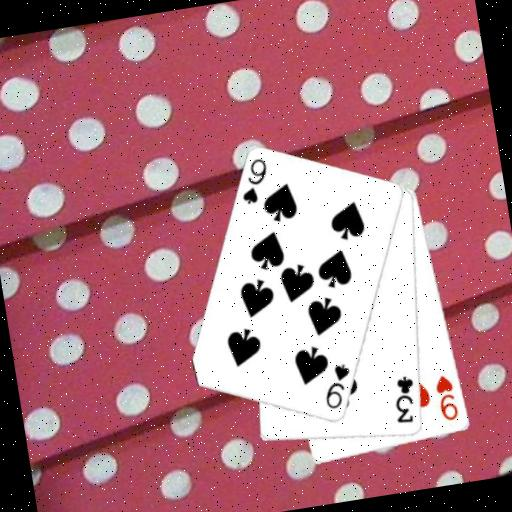3C: (386, 372, 421, 427)
9H: (431, 371, 462, 424)
9S: (316, 360, 357, 412), (233, 155, 273, 207)
